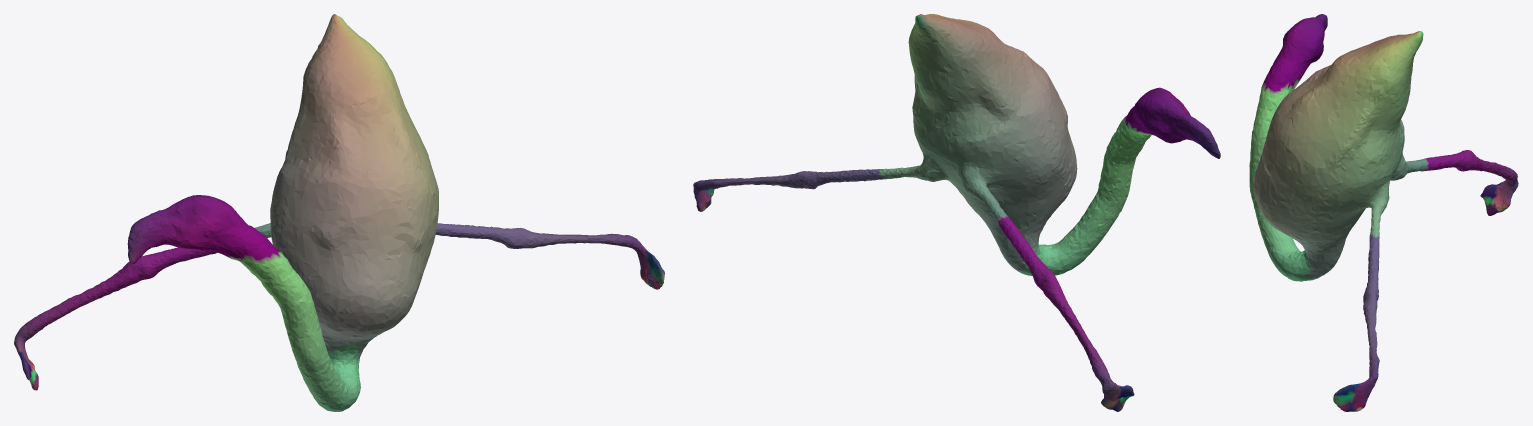
File: flamingo-19.off.obj
3 renders of one model, left to right at view 1: azimuth 30°, elevation 25°; view 2: azimuth 150°, elevation 25°; view 3: azimuth 270°, elevation 25°, orthographic. The views are drawn at different scales.
Size of the model in its own units: 1.4 by 0.8287 by 0.6925.
